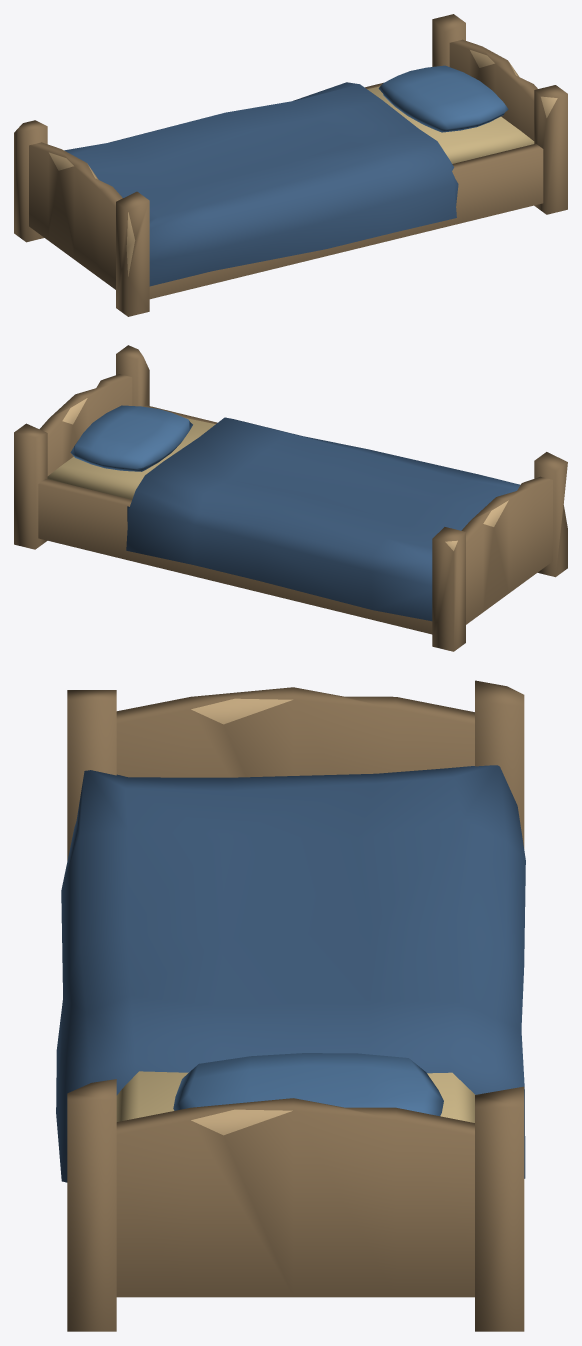
The model's file is rpgpp_ag_bed_03b.fbx.
3 views of the same model, one above another, from view 1: azimuth 30°, elevation 25°; view 2: azimuth 150°, elevation 25°; view 3: azimuth 270°, elevation 25° (orthographic). The views are drawn at different scales.
Parts seen in each view (by area): view 1: rpgpp_ag_bed_03b; view 2: rpgpp_ag_bed_03b; view 3: rpgpp_ag_bed_03b.
Boxes of the visible parts, x1=… form: rpgpp_ag_bed_03b: x1=14, y1=14, x2=567, y2=316; rpgpp_ag_bed_03b: x1=14, y1=345, x2=567, y2=651; rpgpp_ag_bed_03b: x1=56, y1=680, x2=525, y2=1331.
Bounding box in the file's own units: 2.64 × 0.6653 × 1.22.
